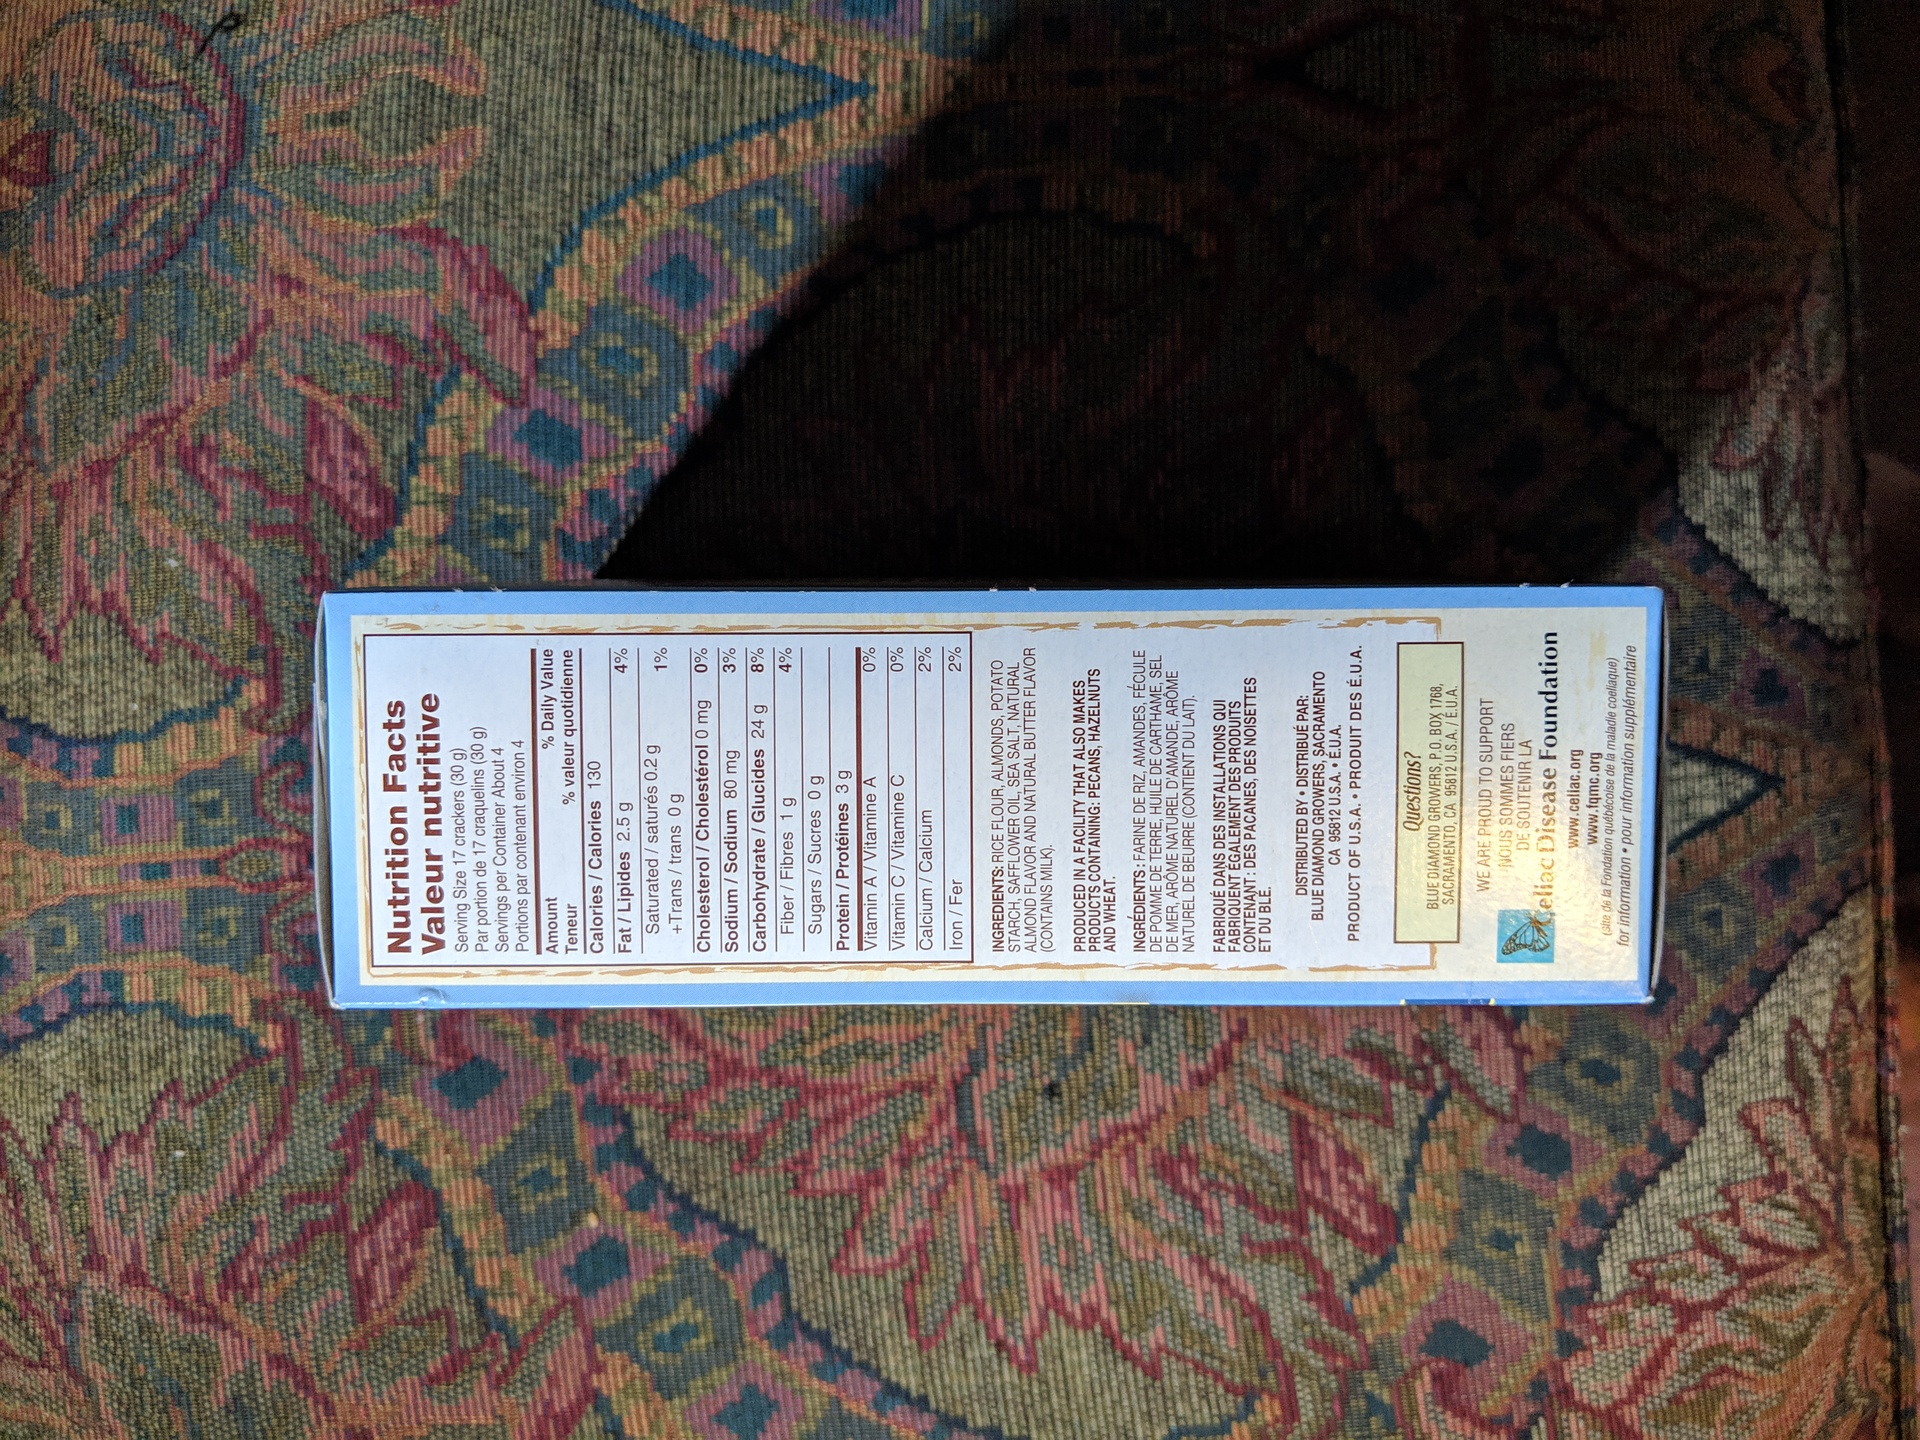blue_diamond_nut_thins_almond_seasalt: (310, 591, 1665, 1007)
